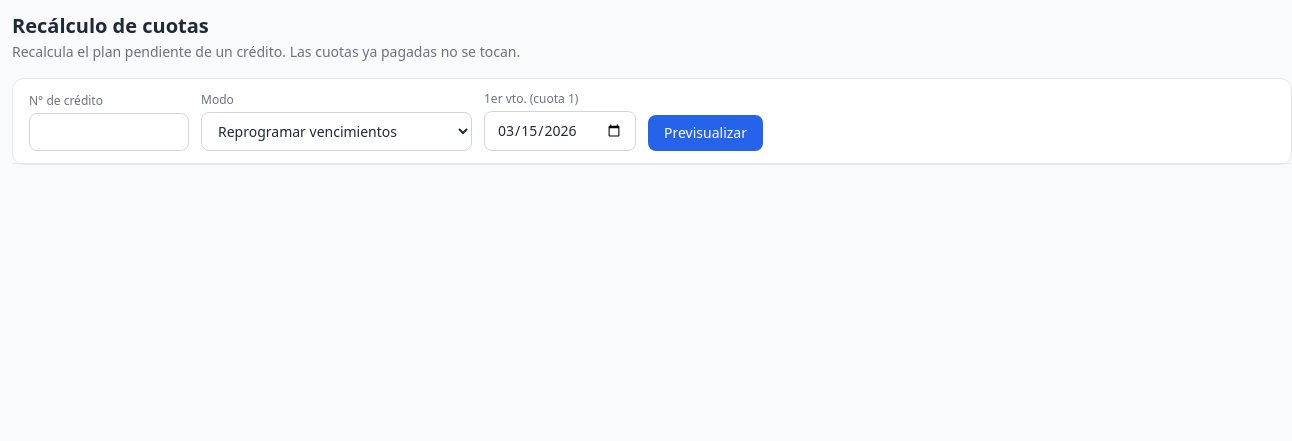
Test: Recálculo de cuotas › en sólo lectura se previsualiza pero no se aplica
This screenshot has width=1292, height=441.
Type "900" into the field labelled "N° de crédito". click: (109, 132)
box: [29,113,189,151]
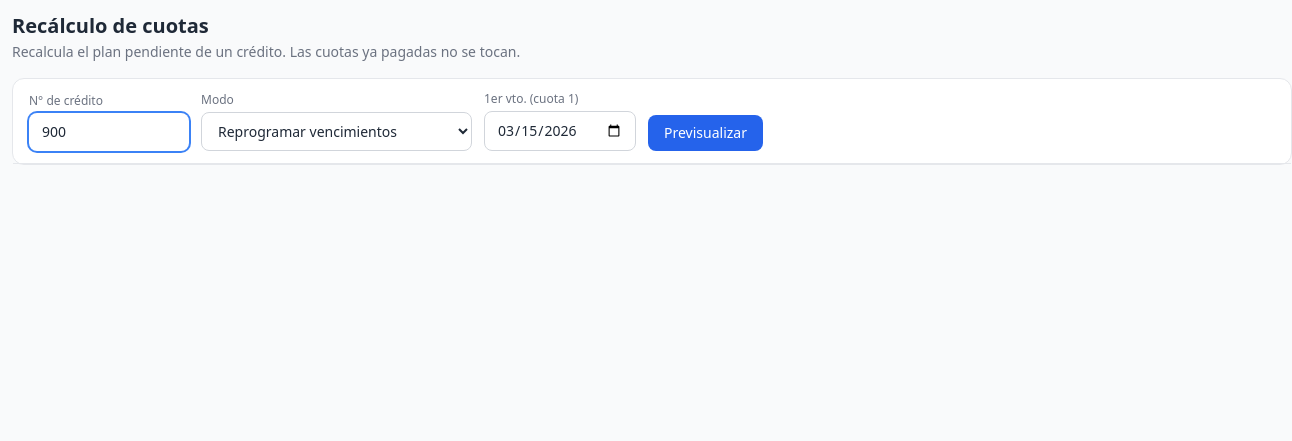
Click the button "Previsualizar". click: (706, 133)
box: [648,115,763,151]
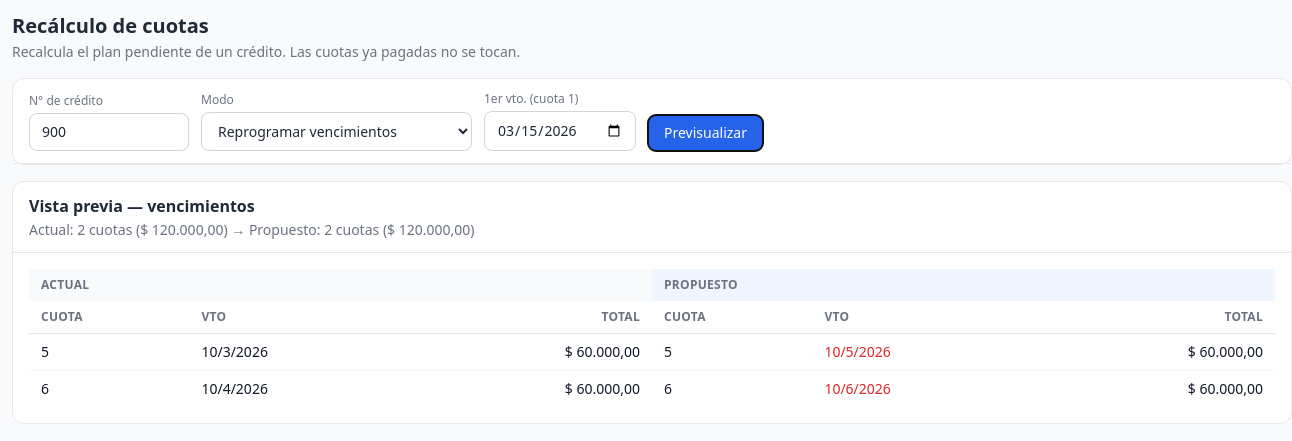
Result: the heading "Vista previa — vencimientos" is shown at [29,195,255,217]
